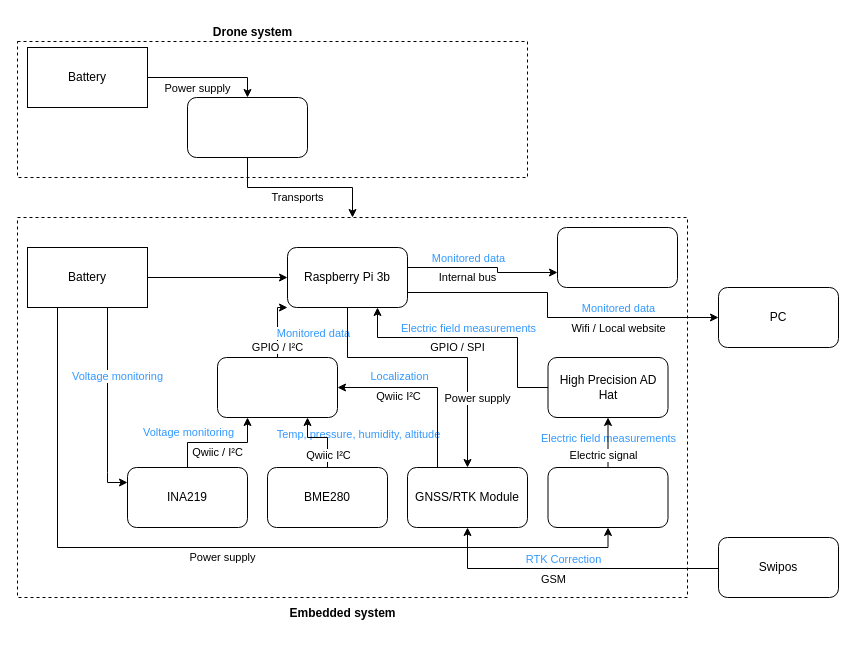
Some shapes in this 856 by 645 pixel diagram are drawn without their labels. Each missing label, with the centre of its shape:
Drone: point 247,127
EFM113B: point 607,497
Qwiic Hat: point 277,387
SD card: point 617,257
